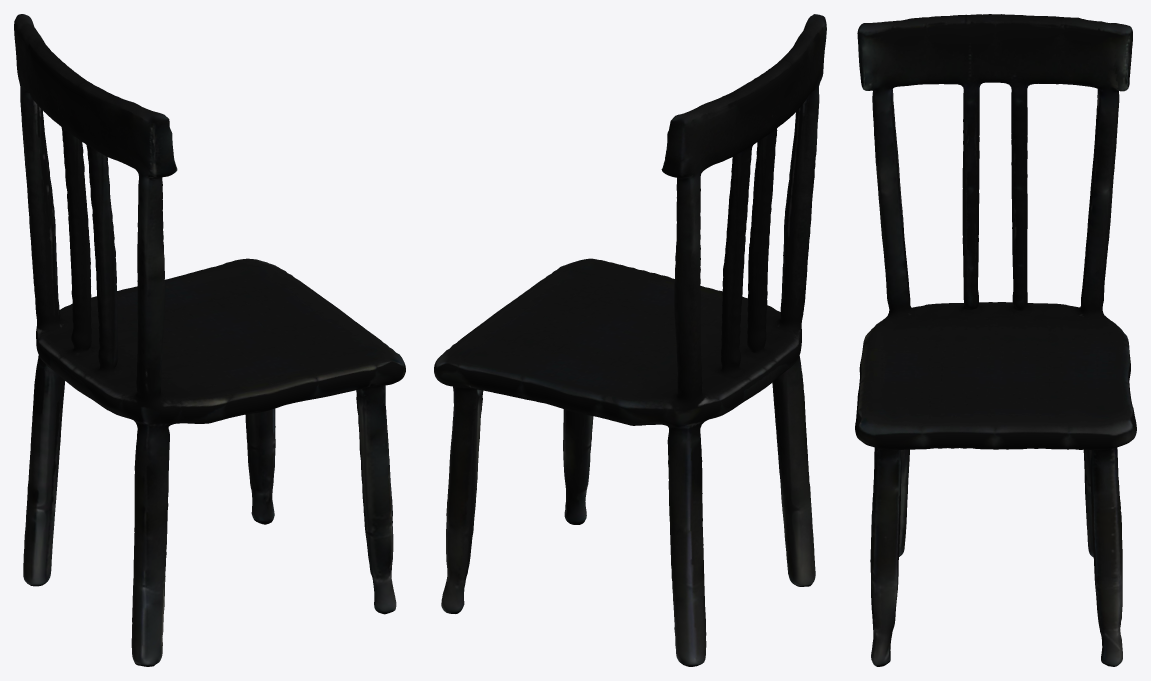
Rendered from chair_draft.glb.
The picture shows the model from 3 angles, left to right: view 1: azimuth 30°, elevation 25°; view 2: azimuth 150°, elevation 25°; view 3: azimuth 270°, elevation 25°; orthographic projection. The views are drawn at different scales.
Visible parts, largest first — view 1: geometry_0; view 2: geometry_0; view 3: geometry_0.
Boxes of the visible parts, x1,y1,x2,y2 form: geometry_0: (14, 14, 405, 666); geometry_0: (434, 14, 826, 666); geometry_0: (855, 14, 1136, 666).
Size of the model in its own units: 0.4865 by 0.9204 by 0.4421.
1 material, 1 textured.
